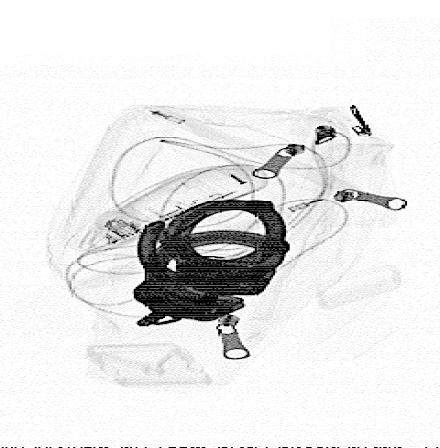HandCuffs: (127, 199, 297, 330)
